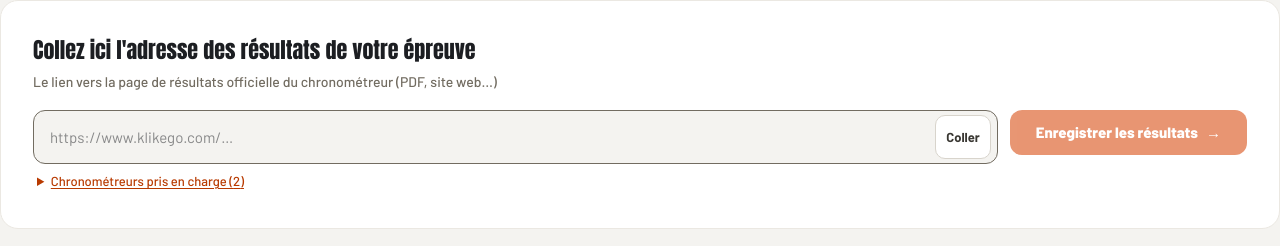
Test: TcnScrapeForm — un seul verdict avant d'essayer (#492, ACT-6) › laisse le bouton actif quand le chronométreur est reconnu, et le dit
Type "https://www.klikego.com/resultats/x" into the field named "Adresse des résultats" at (488, 137), box [50, 126, 925, 148]
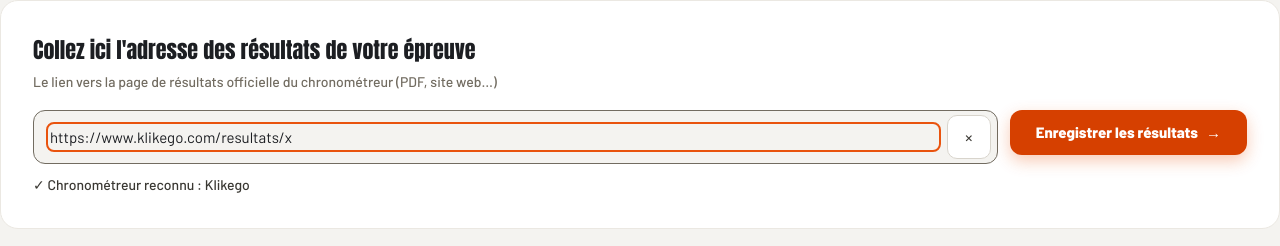
Check: the text "Chronométreur reconnu : Klikego" is shown, box [33, 174, 250, 194]
Check: the button "Enregistrer les résultats →" is enabled, box [1010, 110, 1247, 155]
